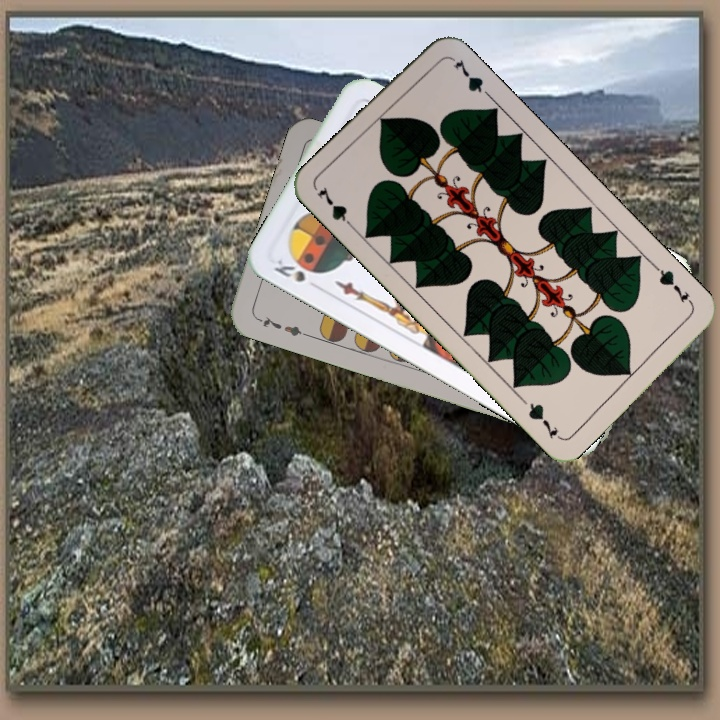E7: (252, 312, 310, 339)
G7: (313, 182, 358, 233), (651, 262, 696, 309)
SK: (269, 253, 308, 285)
